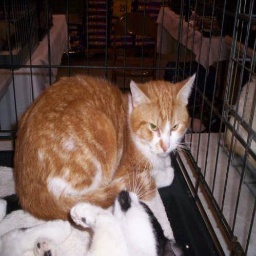cat: (12, 75, 197, 229)
